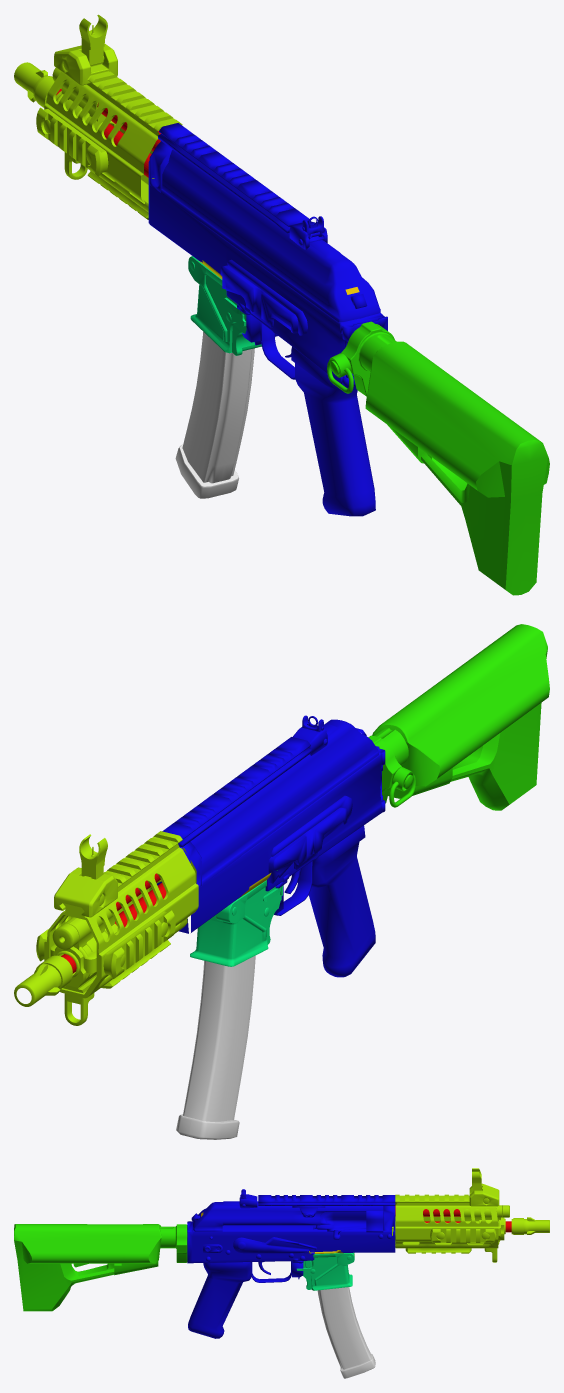
File: sbr.glb
3 renders of one model, top to bottom at view 1: azimuth 30°, elevation 25°; view 2: azimuth 150°, elevation 25°; view 3: azimuth 270°, elevation 25°, orthographic. The views are drawn at different scales.
Visible parts, largest first — view 1: PP19Bizon, Remington R5, wpn_h1_smg_fang45_vm_camo_LOD0, mtl_kf5_base, wpn_h1_smg_fang45_vm_camo_LOD0.001; view 2: PP19Bizon, Remington R5, wpn_h1_smg_fang45_vm_camo_LOD0, mtl_kf5_base, wpn_h1_smg_fang45_vm_camo_LOD0.001; view 3: PP19Bizon, Remington R5, wpn_h1_smg_fang45_vm_camo_LOD0, mtl_kf5_base, wpn_h1_smg_fang45_vm_camo_LOD0.001.
Part boxes in pixels (<box>): PP19Bizon: <box>148,123,387,516</box>; Remington R5: <box>327,321,549,595</box>; wpn_h1_smg_fang45_vm_camo_LOD0: <box>14,14,182,219</box>; mtl_kf5_base: <box>175,332,254,498</box>; wpn_h1_smg_fang45_vm_camo_LOD0.001: <box>188,256,261,355</box>; PP19Bizon: <box>157,715,385,977</box>; Remington R5: <box>368,624,549,810</box>; wpn_h1_smg_fang45_vm_camo_LOD0: <box>14,831,198,1025</box>; mtl_kf5_base: <box>176,955,255,1139</box>; wpn_h1_smg_fang45_vm_camo_LOD0.001: <box>190,870,283,966</box>; PP19Bizon: <box>187,1189,395,1338</box>; Remington R5: <box>14,1224,187,1311</box>; wpn_h1_smg_fang45_vm_camo_LOD0: <box>392,1168,549,1262</box>; mtl_kf5_base: <box>317,1287,375,1378</box>; wpn_h1_smg_fang45_vm_camo_LOD0.001: <box>296,1250,354,1290</box>.
Size of the model in its own units: 2.54 by 9.91 by 23.48.
